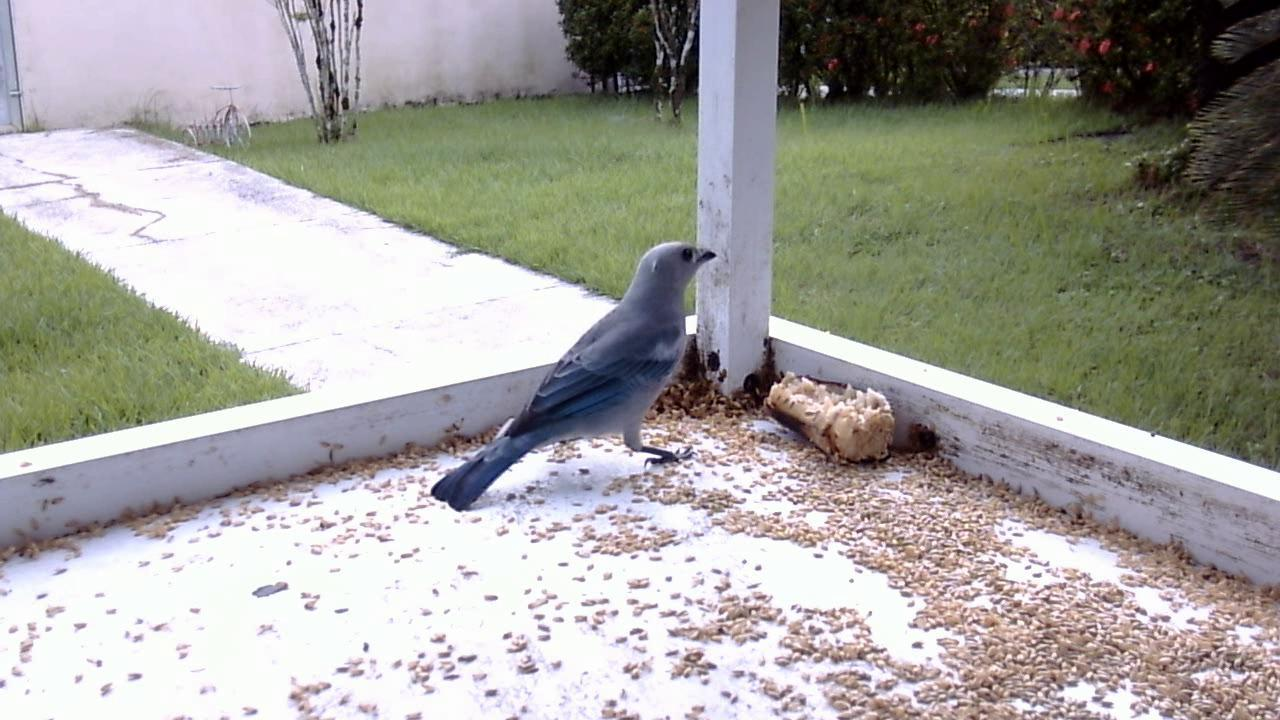sanhaco_da_amazonia: (428, 242, 720, 513)
